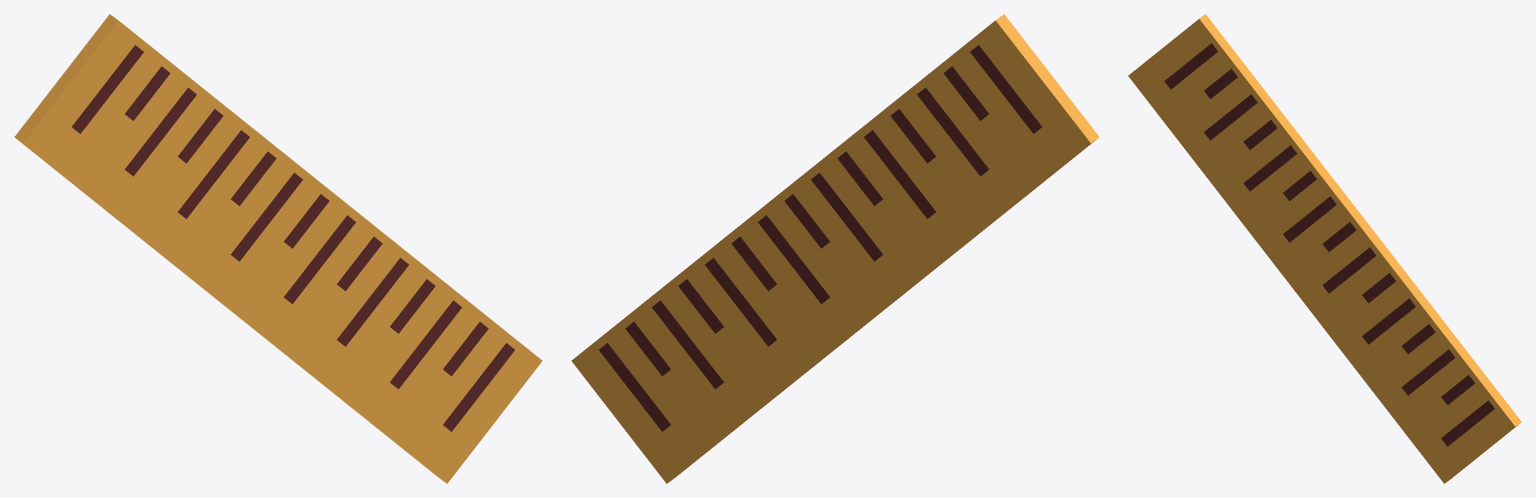
File: straight_ruler.glb
3 renders of one model, left to right at view 1: azimuth 30°, elevation 25°; view 2: azimuth 150°, elevation 25°; view 3: azimuth 330°, elevation 25°, orthographic. The views are drawn at different scales.
Visible parts, largest first — view 1: Cube.983; view 2: Cube.983; view 3: Cube.983.
Part boxes in pixels (x1,y1,x2,y2): Cube.983: (14, 14, 542, 483); Cube.983: (571, 14, 1099, 483); Cube.983: (1128, 14, 1521, 483).
Bounding box in the file's own units: 2.08 × 2.08 × 0.06.
1 material, 1 textured.
